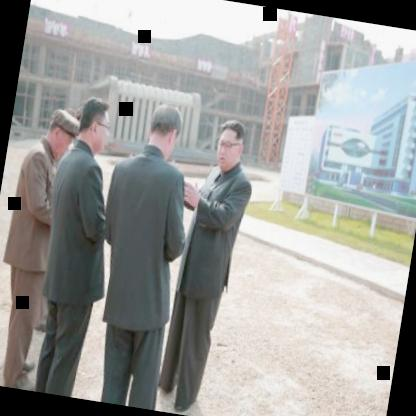head: (140, 96, 188, 162), (74, 94, 119, 154), (36, 104, 78, 166), (209, 117, 252, 174)
